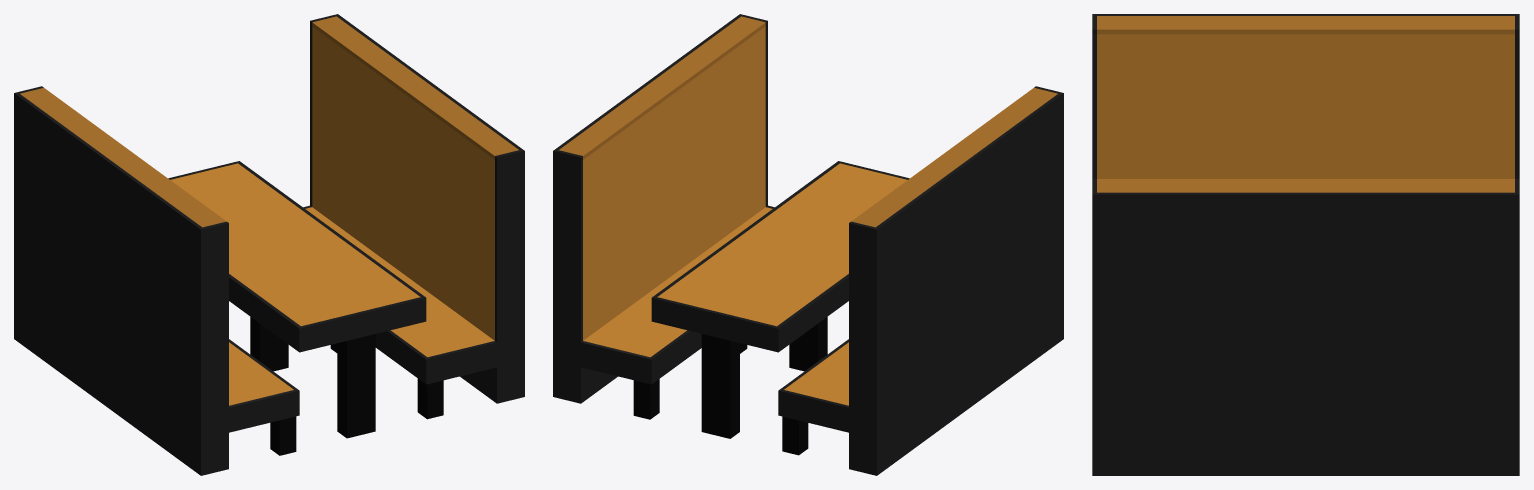
The model's file is SeatingBooth-Canteen_02.fbx.
3 renders of one model, left to right at view 1: azimuth 30°, elevation 25°; view 2: azimuth 150°, elevation 25°; view 3: azimuth 270°, elevation 25°, orthographic. The views are drawn at different scales.
Parts seen in each view (by area): view 1: SeatingBooth_02; view 2: SeatingBooth_02; view 3: SeatingBooth_02.
Part boxes in pixels (left/top/right/bottom): SeatingBooth_02: left=14, top=14, right=524, bottom=475; SeatingBooth_02: left=553, top=14, right=1063, bottom=475; SeatingBooth_02: left=1092, top=14, right=1519, bottom=475.
Size of the model in its own units: 2.75 by 2 by 2.75.
